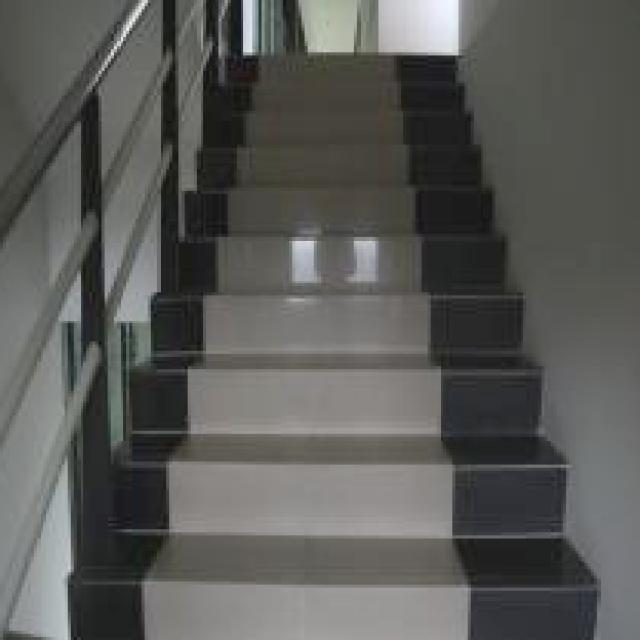upstair: (186, 195, 493, 626)
